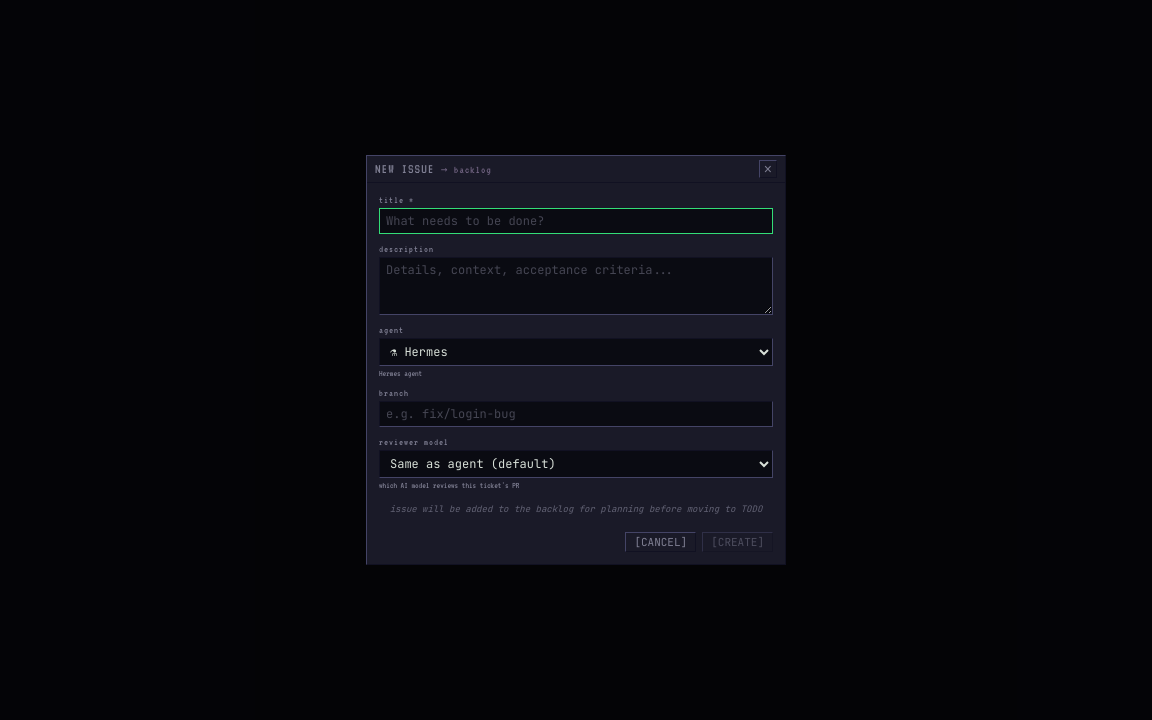
Test: NewIssueModal › enables CREATE button when title is entered
The width and height of the screenshot is (1152, 720).
Type "My issue" into the field with placeholder "What needs to be done?" at (576, 221), box [379,208,773,234]
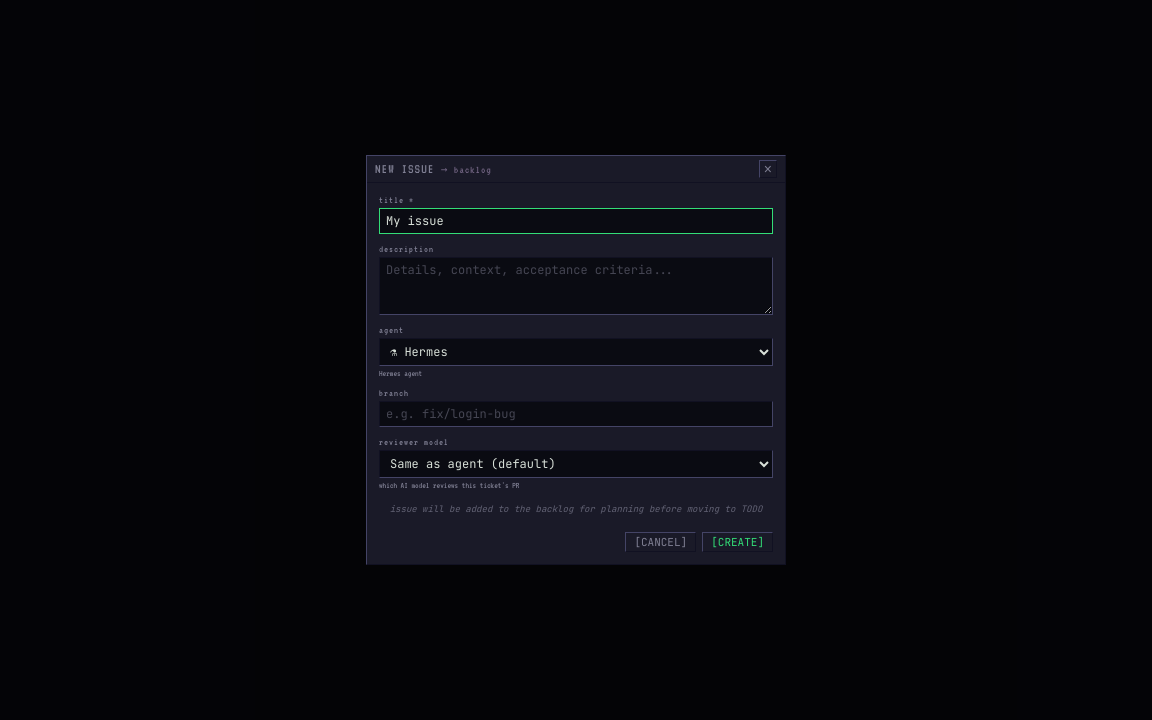
Check: the button "[CREATE]" is enabled, box [702,532,773,552]
